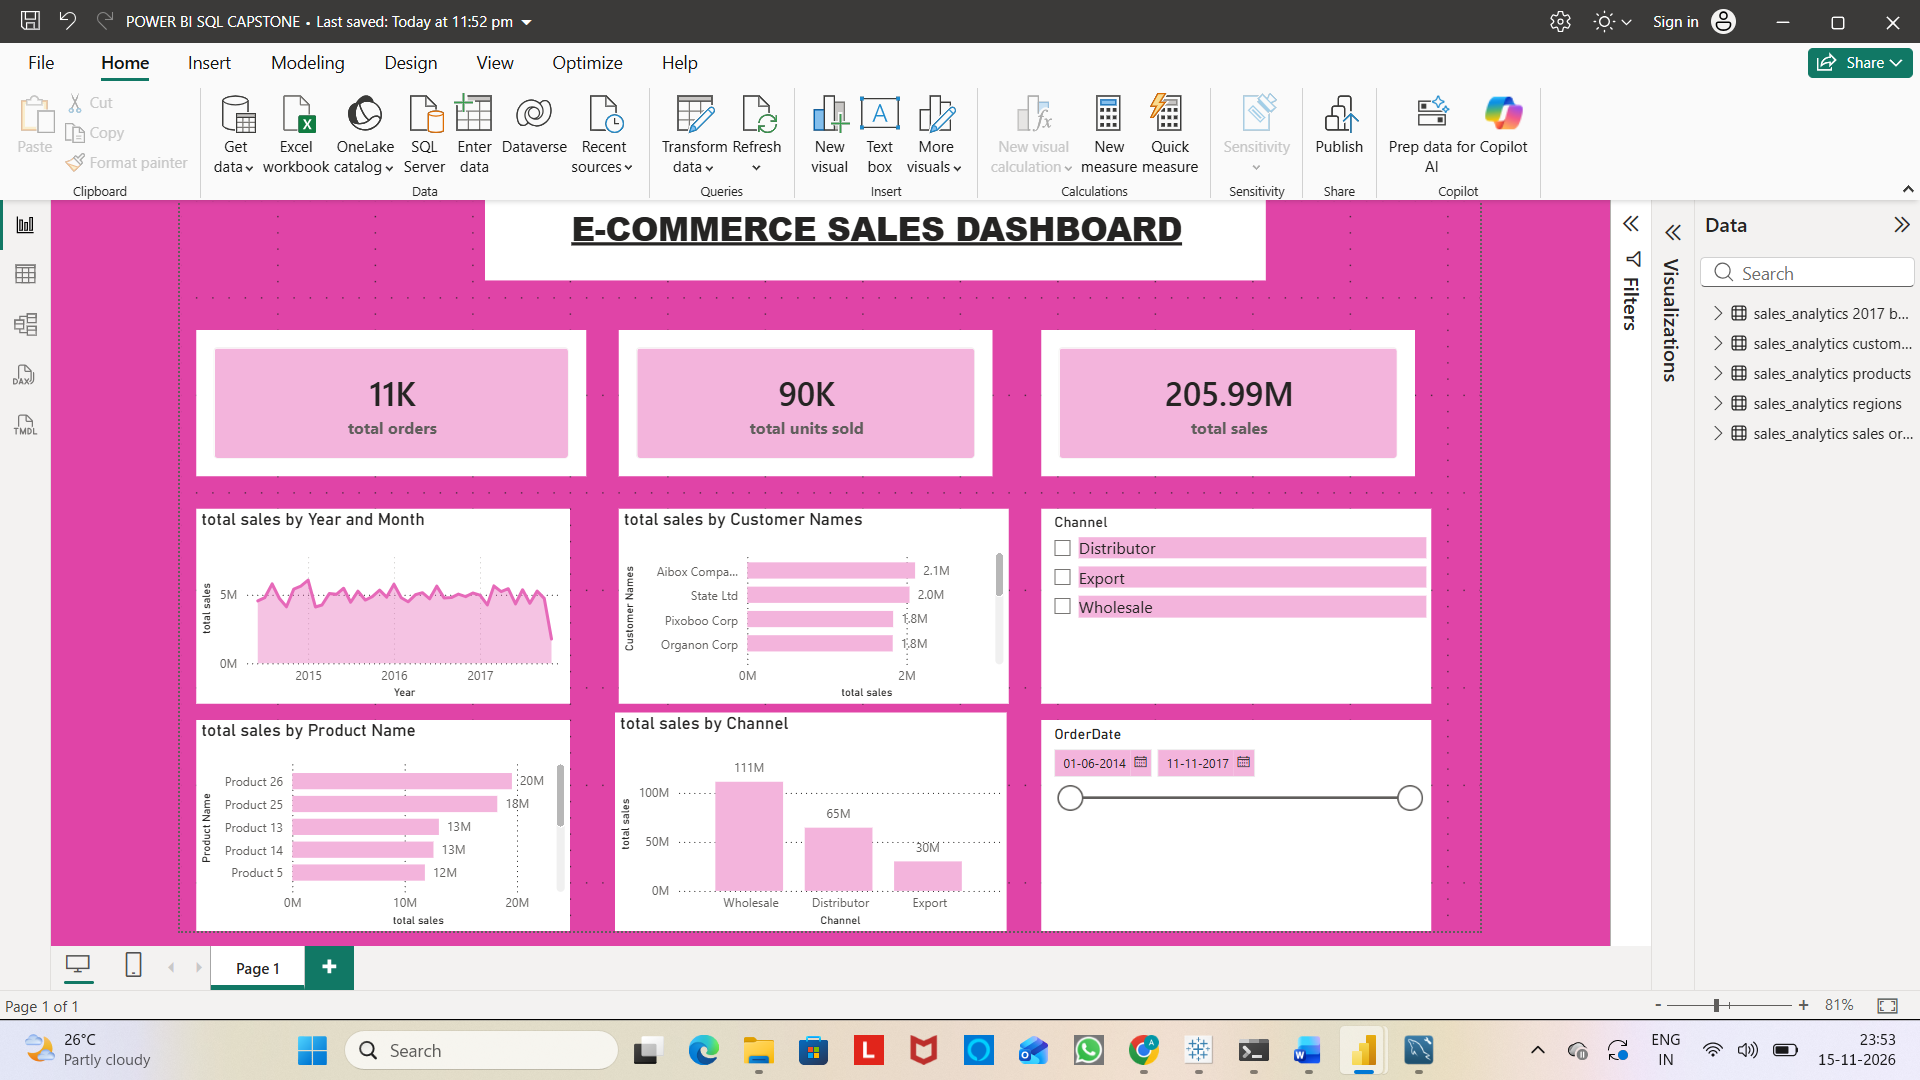

The page's visual inventory and layout, read from the dashboard file:
{"tool":"powerbi","page":{"name":"Page 1","canvas":[1280,720],"ordinal":0},"visuals":[{"type":"cardVisual","fields":{"Data":["sales_analytics sales order.total orders"]},"box":[16,128,384,144],"z":0},{"type":"cardVisual","fields":{"Data":["sales_analytics sales order.total units sold"]},"box":[432,128,368,144],"z":1000},{"type":"cardVisual","fields":{"Data":["sales_analytics sales order.total sales"]},"box":[848,128,368,144],"z":2000},{"type":"lineChart","fields":{"Category":["sales_analytics sales order.OrderDate.Variation.Date Hierarchy.Year","sales_analytics sales order.OrderDate.Variation.Date Hierarchy.Month"],"Y":["sales_analytics sales order.total sales"]},"box":[16,304,368,192],"z":3000},{"type":"clusteredColumnChart","fields":{"Category":["sales_analytics sales order.Channel"],"Y":["sales_analytics sales order.total sales"]},"box":[428.1,505,385.6,215.4],"z":4000},{"type":"clusteredBarChart","fields":{"Category":["sales_analytics products.Product Name"],"Y":["sales_analytics sales order.total sales"]},"box":[16,512,368,208],"z":5000},{"type":"clusteredBarChart","fields":{"Category":["sales_analytics customers.Customer Names"],"Y":["sales_analytics sales order.total sales"]},"box":[432,304,384,192],"z":6000},{"type":"slicer","fields":{"Values":["sales_analytics sales order.Channel"]},"box":[848,304,384,192],"z":7000},{"type":"slicer","fields":{"Values":["sales_analytics sales order.OrderDate"]},"box":[848,512,384,208],"z":8000},{"type":"textbox","box":[300.5,0,768.4,79.6],"z":9000}]}

Visuals, with their boxes on the page's 1280x720 design canvas (x1, y1, x2, y2). These are canvas units, not pixel positions in the 1920x1080 screenshot, which may show the page scaled, cropped or inside an application window:
cardVisual - sales_analytics sales order.total orders: (16, 128, 400, 272)
cardVisual - sales_analytics sales order.total units sold: (432, 128, 800, 272)
cardVisual - sales_analytics sales order.total sales: (848, 128, 1216, 272)
lineChart - sales_analytics sales order.OrderDate.Variation.Date Hierarchy.Year x sales_analytics sales order.OrderDate.Variation.Date Hierarchy.Month: (16, 304, 384, 496)
clusteredColumnChart - sales_analytics sales order.Channel x sales_analytics sales order.total sales: (428, 505, 814, 720)
clusteredBarChart - sales_analytics products.Product Name x sales_analytics sales order.total sales: (16, 512, 384, 720)
clusteredBarChart - sales_analytics customers.Customer Names x sales_analytics sales order.total sales: (432, 304, 816, 496)
slicer - sales_analytics sales order.Channel: (848, 304, 1232, 496)
slicer - sales_analytics sales order.OrderDate: (848, 512, 1232, 720)
textbox: (300, 0, 1069, 80)
